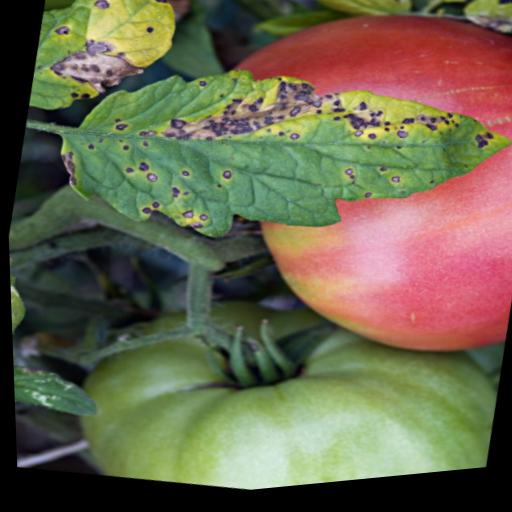Septoria: (36, 16, 512, 310), (23, 0, 190, 134)
